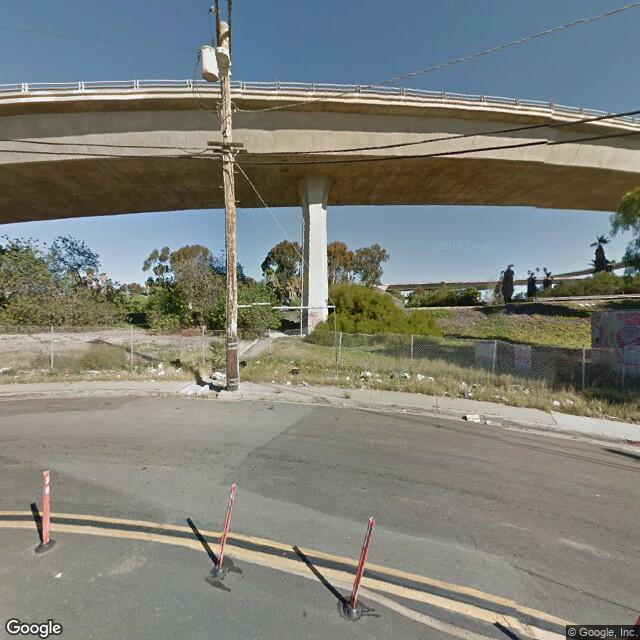litter: (360, 369, 393, 388), (458, 378, 481, 404), (410, 372, 438, 387), (143, 360, 168, 376), (466, 412, 486, 424), (281, 379, 311, 386), (548, 398, 571, 407), (205, 372, 225, 381)
